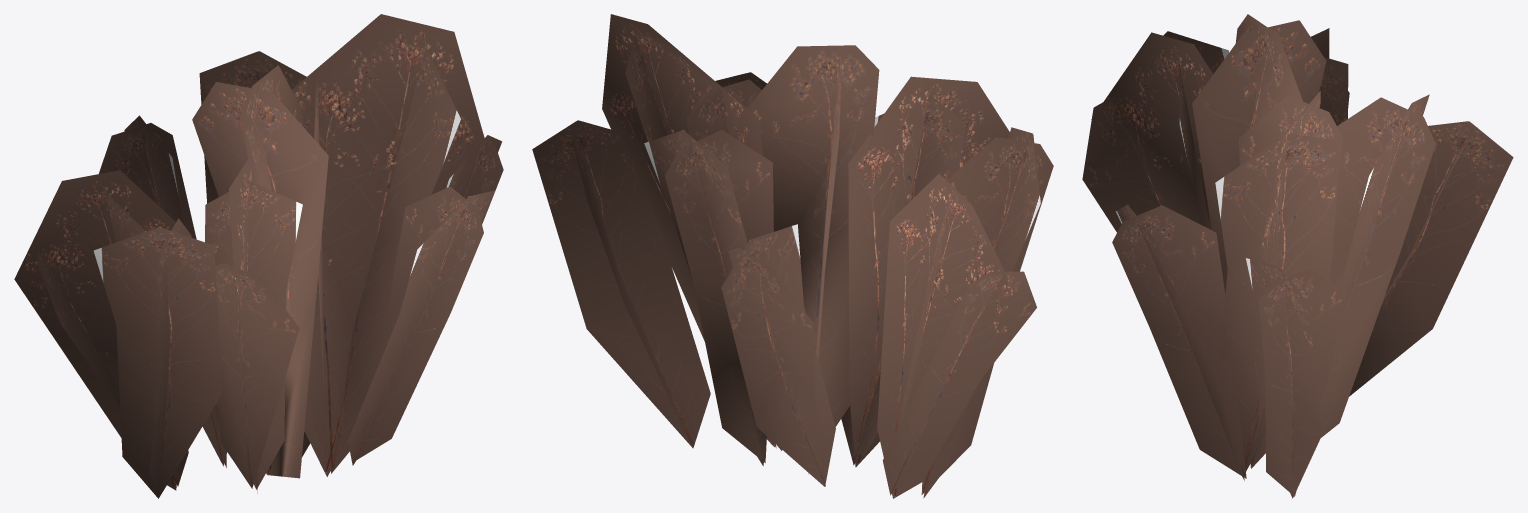
Rendered from Grass_C_3.fbx.
The picture shows the model from 3 angles, left to right: view 1: azimuth 30°, elevation 25°; view 2: azimuth 150°, elevation 25°; view 3: azimuth 270°, elevation 25°; orthographic projection. The views are drawn at different scales.
Parts seen in each view (by area): view 1: Grass_C_3; view 2: Grass_C_3; view 3: Grass_C_3.
Part boxes in pixels (left/top/right/bottom): Grass_C_3: left=14, top=14, right=503, bottom=498; Grass_C_3: left=532, top=14, right=1053, bottom=498; Grass_C_3: left=1082, top=14, right=1513, bottom=498.
Size of the model in its own units: 1.28 by 1.06 by 0.9657.
